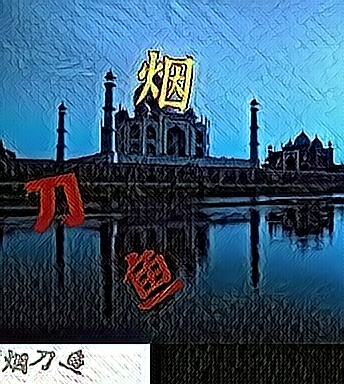B5B6: (22, 168, 86, 234)
D1CC: (134, 48, 198, 114)
D3E3: (122, 245, 186, 311)
